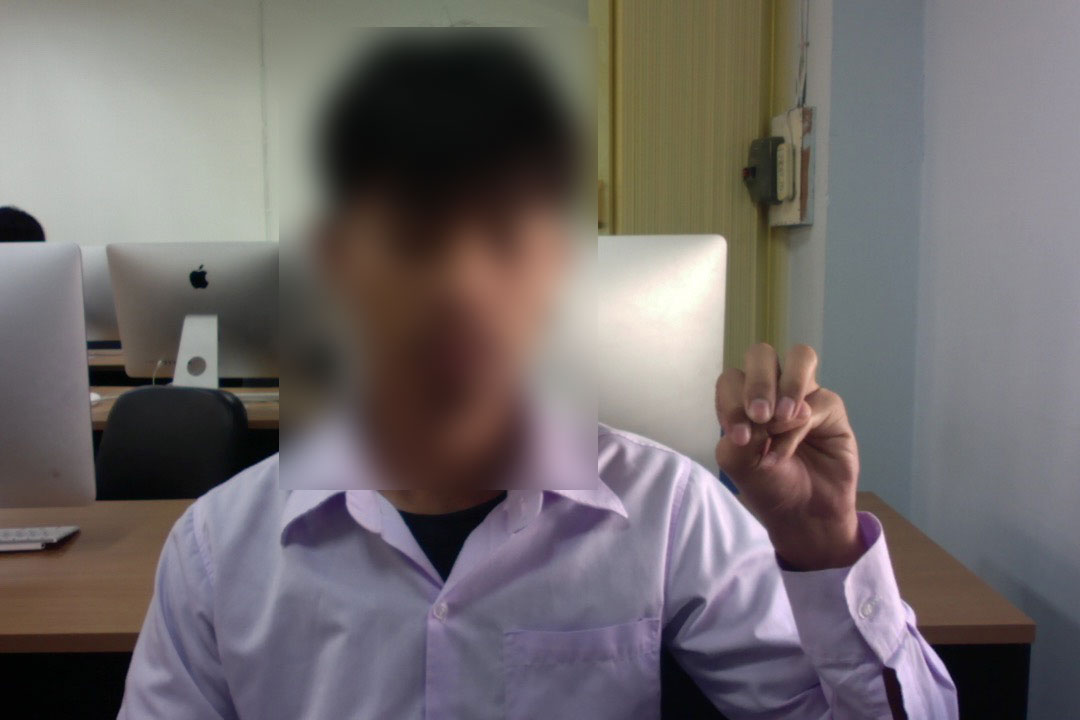mor: (702, 336, 869, 540)
